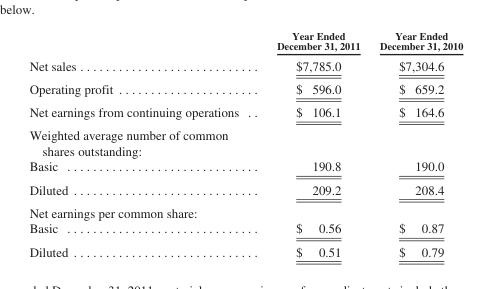table: (28, 29, 462, 258)
table column: (28, 29, 257, 258), (257, 29, 369, 258), (369, 29, 462, 258)
table column header: (28, 29, 462, 54)
table projected row header: (28, 123, 462, 158), (28, 200, 462, 220)
table row: (28, 123, 462, 158), (28, 29, 462, 54), (28, 76, 462, 100), (28, 100, 462, 123), (28, 177, 462, 200), (28, 54, 462, 76), (28, 200, 462, 220), (28, 158, 462, 177), (28, 220, 462, 239), (28, 239, 462, 258)
